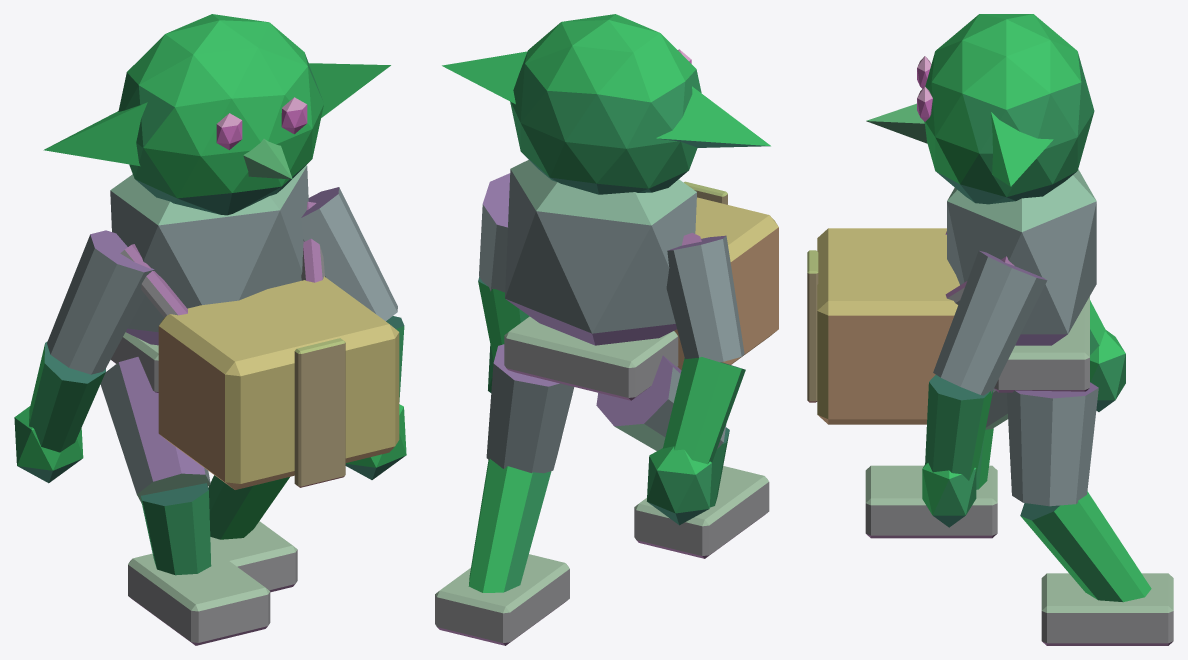
Rendered from creature_goblin_tribute_bearer_passing_a_v01.glb.
3 views of the same model, side by side, from view 1: azimuth 30°, elevation 25°; view 2: azimuth 150°, elevation 25°; view 3: azimuth 270°, elevation 25° (orthographic). The views are drawn at different scales.
Parts seen in each view (by area): view 1: GEO_creature_goblin_tribute_bearer_passing_a_v01; view 2: GEO_creature_goblin_tribute_bearer_passing_a_v01; view 3: GEO_creature_goblin_tribute_bearer_passing_a_v01.
Part boxes in pixels (x1=…): GEO_creature_goblin_tribute_bearer_passing_a_v01: x1=14, y1=14, x2=406, y2=645; GEO_creature_goblin_tribute_bearer_passing_a_v01: x1=435, y1=14, x2=778, y2=645; GEO_creature_goblin_tribute_bearer_passing_a_v01: x1=807, y1=14, x2=1173, y2=645.
Bounding box in the file's own units: 0.88 × 1.46 × 0.8325.
